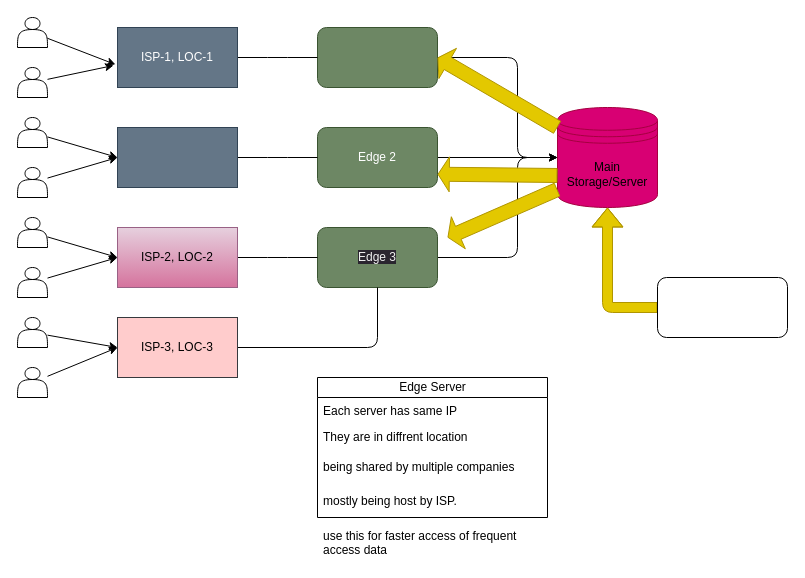
This 805x578 diagram has some shape labels left out. Each missing label, with the box of its shape:
Cache Invalidate: (656, 276, 788, 338)
Edge 1: (316, 26, 438, 88)
ISP-2, LOC-1: (116, 126, 238, 188)
